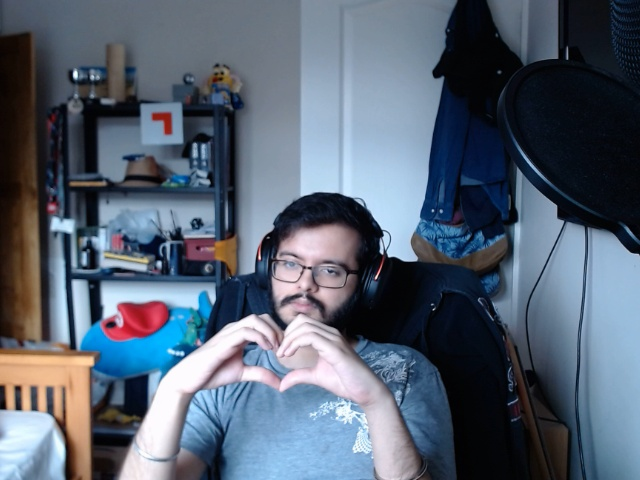Heart: (183, 307, 363, 391)
